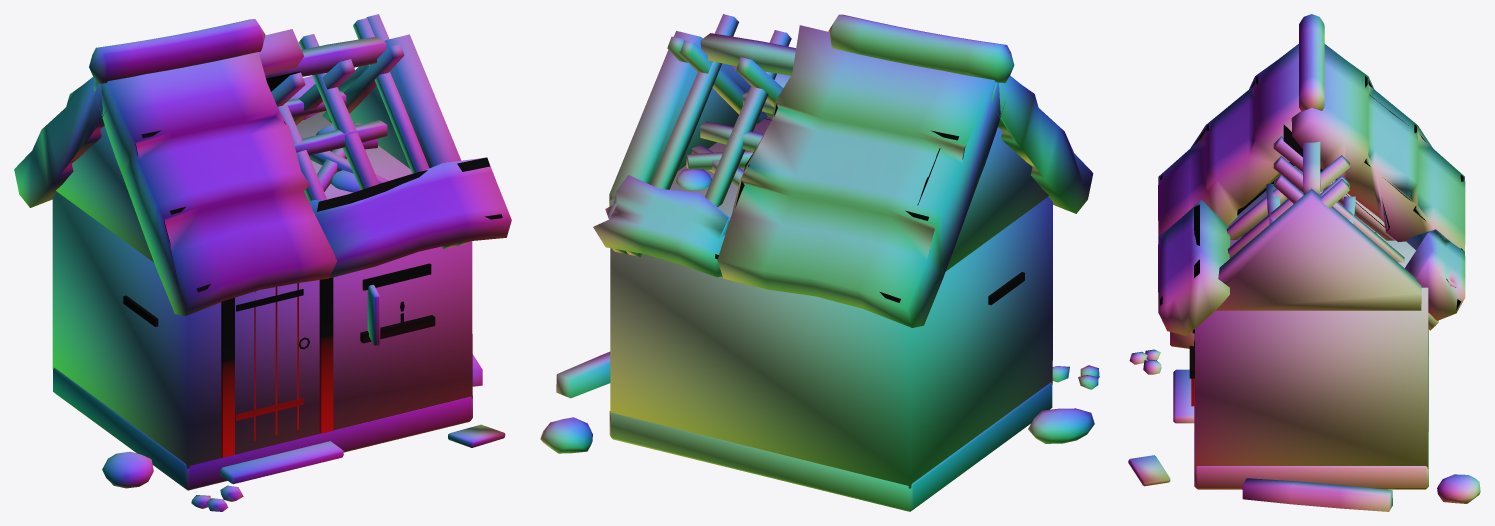
Rendered from SM_Prop_March_AshwheatCottage_B.fbx.
The picture shows the model from 3 angles, left to right: view 1: azimuth 30°, elevation 25°; view 2: azimuth 150°, elevation 25°; view 3: azimuth 270°, elevation 25°; orthographic projection. The views are drawn at different scales.
Parts seen in each view (by area): view 1: SM_Prop_March_AshwheatCottage_B; view 2: SM_Prop_March_AshwheatCottage_B; view 3: SM_Prop_March_AshwheatCottage_B.
Boxes of the visible parts, x1=… form: SM_Prop_March_AshwheatCottage_B: x1=14, y1=14, x2=511, y2=511; SM_Prop_March_AshwheatCottage_B: x1=540, y1=14, x2=1099, y2=511; SM_Prop_March_AshwheatCottage_B: x1=1128, y1=14, x2=1480, y2=511.
Size of the model in its own units: 3.47 by 3.19 by 2.93.
